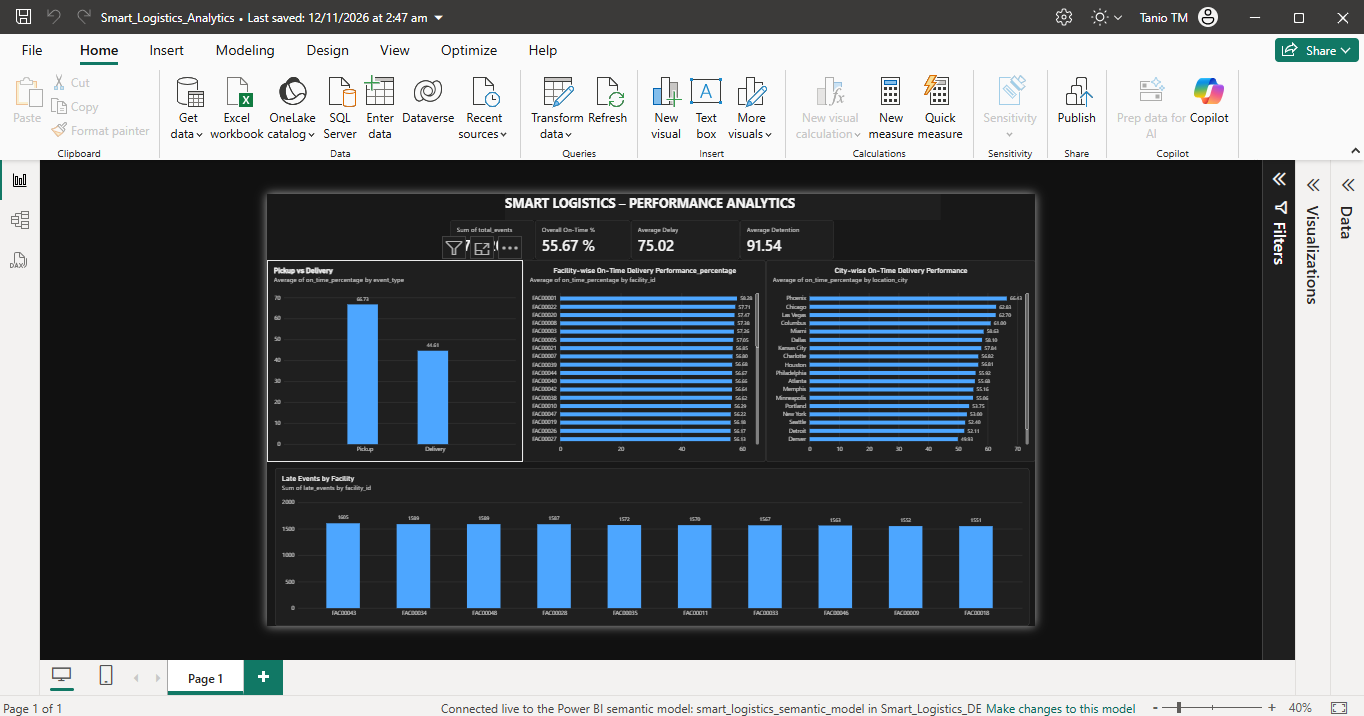

This screenshot's page, from the dashboard's own definition file:
{"tool":"powerbi","page":{"name":"Page 1","canvas":[1920,1080],"ordinal":0},"visuals":[{"type":"cardVisual","fields":{"Data":["Sum(gold_delivery_performance.total_events)"]},"box":[550.8,159.8,211.7,99.4],"z":0},{"type":"cardVisual","fields":{"Data":["gold_delivery_performance.Overall On-Time %"]},"box":[762.5,159.8,239.8,99.4],"z":1000},{"type":"cardVisual","fields":{"Data":["gold_delivery_performance.Average Delay"]},"box":[1002.2,159.8,272.2,99.4],"z":2000},{"type":"cardVisual","fields":{"Data":["gold_delivery_performance.Average Detention"]},"box":[1274.4,159.8,235.4,99.4],"z":3000},{"type":"clusteredColumnChart","title":"Pickup vs Delivery","fields":{"Category":["gold_delivery_performance.event_type"],"Y":["Avg(gold_delivery_performance.on_time_percentage)"]},"box":[36.7,259.2,699.8,425.5],"z":4000},{"type":"clusteredBarChart","title":"Facility-wise On-Time Delivery Performance_percentage","fields":{"Category":["gold_facility_performance.facility_id"],"Y":["Avg(gold_facility_performance.on_time_percentage)"]},"box":[1159.9,289.4,645.8,395.3],"z":5000},{"type":"clusteredBarChart","title":"City-wise On-Time Delivery Performance","fields":{"Category":["gold_location_performance.location_city"],"Y":["Avg(gold_location_performance.on_time_percentage)"]},"box":[550.8,684.7,700,395],"z":6000},{"type":"textbox","box":[596.2,0,1088.6,64.8],"z":6001}]}

Visuals, with their boxes on the page's 1920x1080 design canvas (x1, y1, x2, y2). These are canvas units, not pixel positions in the 1364x716 screenshot, which may show the page scaled, cropped or inside an application window:
cardVisual - Sum(gold_delivery_performance.total_events): <region>551, 160, 762, 259</region>
cardVisual - gold_delivery_performance.Overall On-Time %: <region>762, 160, 1002, 259</region>
cardVisual - gold_delivery_performance.Average Delay: <region>1002, 160, 1274, 259</region>
cardVisual - gold_delivery_performance.Average Detention: <region>1274, 160, 1510, 259</region>
"Pickup vs Delivery" clusteredColumnChart: <region>37, 259, 736, 685</region>
"Facility-wise On-Time Delivery Performance_percentage" clusteredBarChart: <region>1160, 289, 1806, 685</region>
"City-wise On-Time Delivery Performance" clusteredBarChart: <region>551, 685, 1251, 1080</region>
textbox: <region>596, 0, 1685, 65</region>
